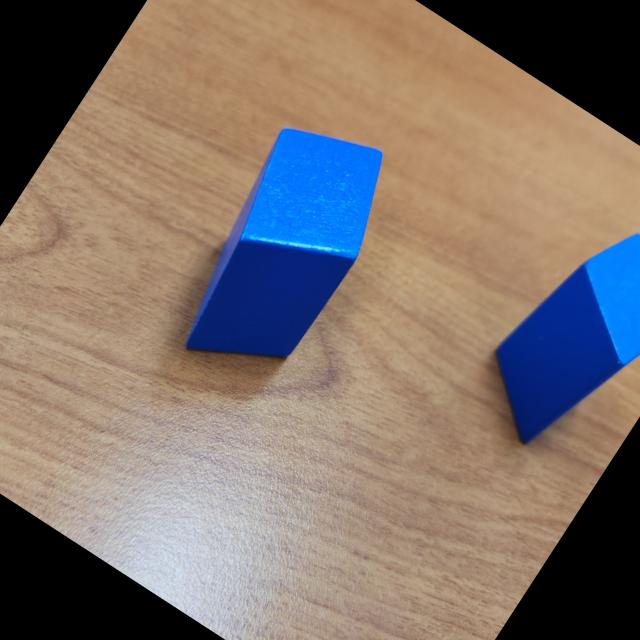blue: (152, 98, 414, 400), (458, 199, 640, 479)
